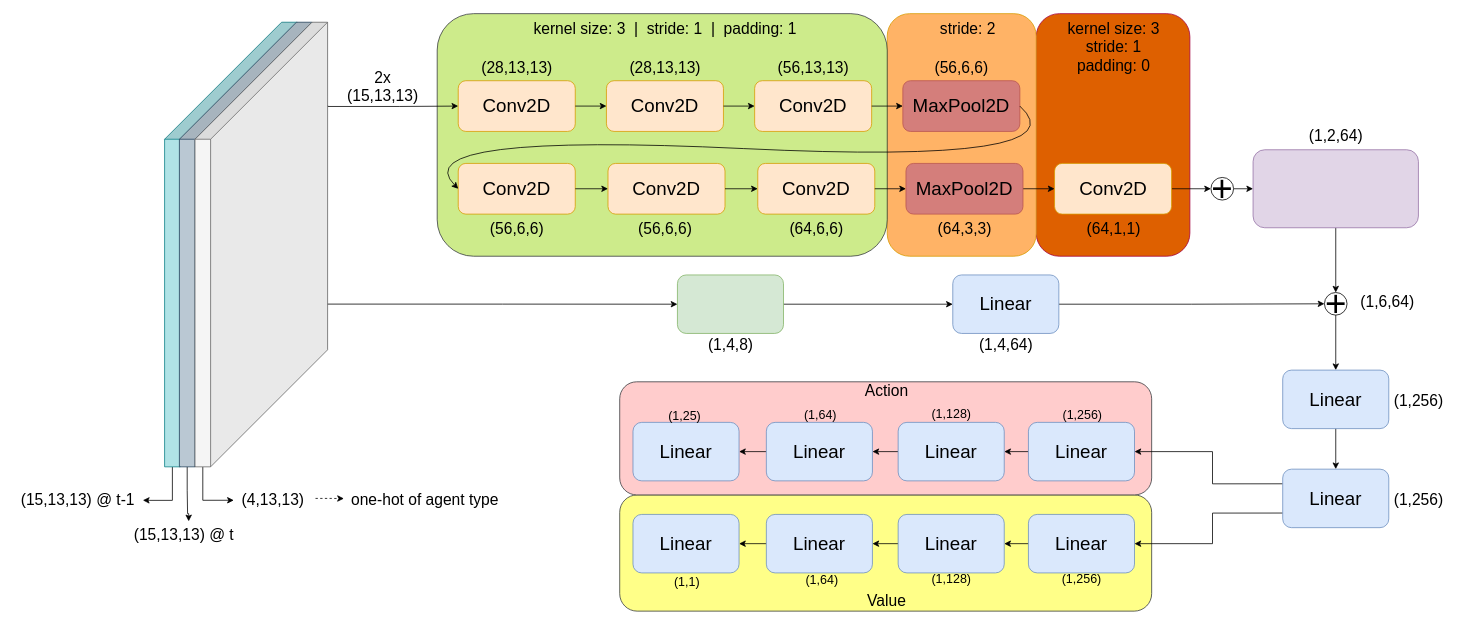
The diagram is 1463 pixels wide and 627 high, and some of its shapes have lost their labels. Each missing label, with the centre of its shape:
Embedding: the point at 730,303
Input Tensor: the point at 261,244
LSTM: the point at 1335,188
